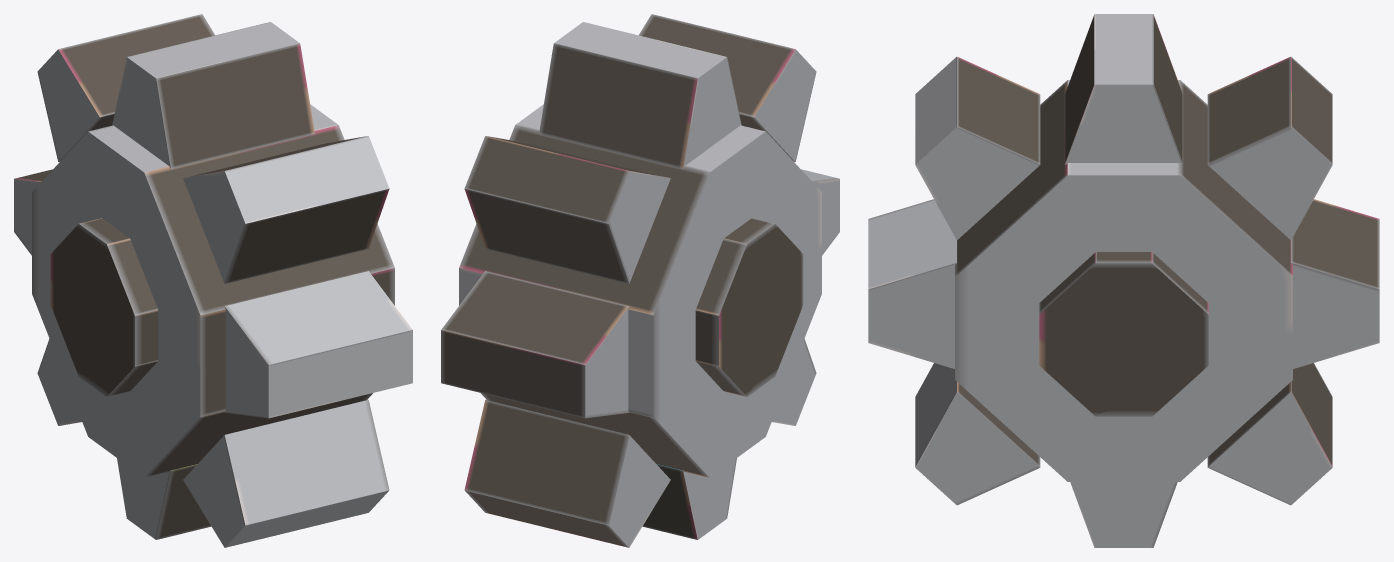
File: Gear.gltf
3 views of the same model, side by side, from view 1: azimuth 30°, elevation 25°; view 2: azimuth 150°, elevation 25°; view 3: azimuth 270°, elevation 25° (orthographic).
Bounding box in the file's own units: 1.67 × 3.06 × 3.06.
1 material, 1 textured.
